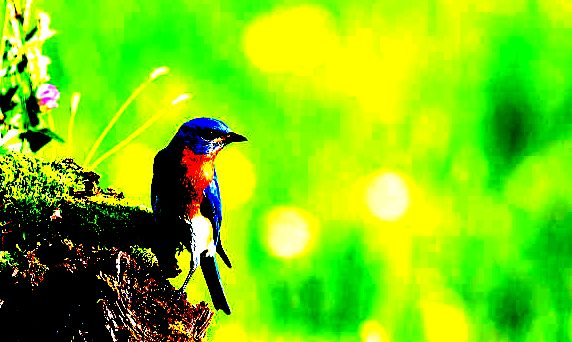Bird: (149, 116, 249, 316)
